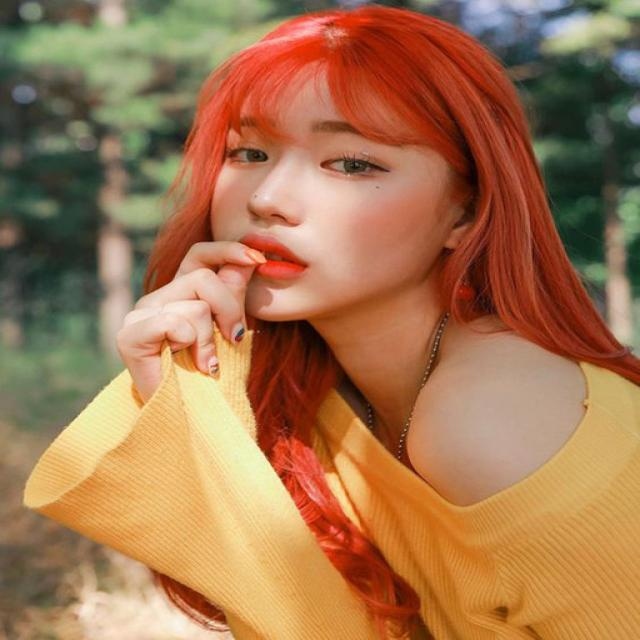Nonhelmet: (168, 4, 535, 334)
